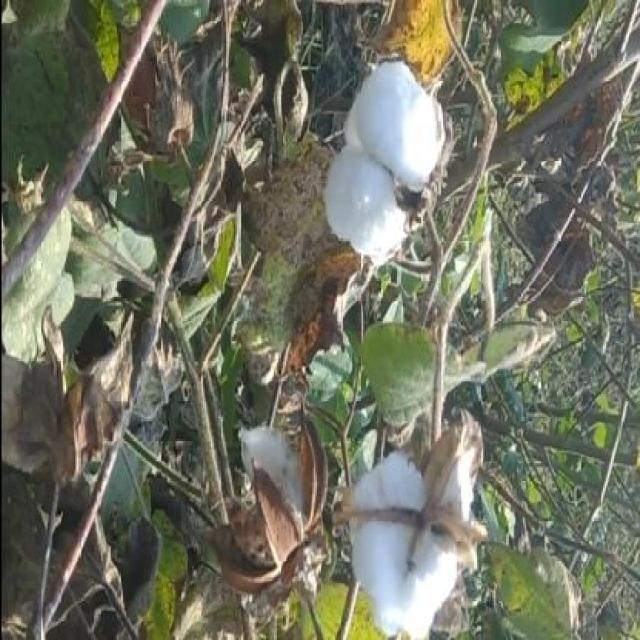cotton_ready: (332, 402, 511, 636), (294, 77, 463, 285)
